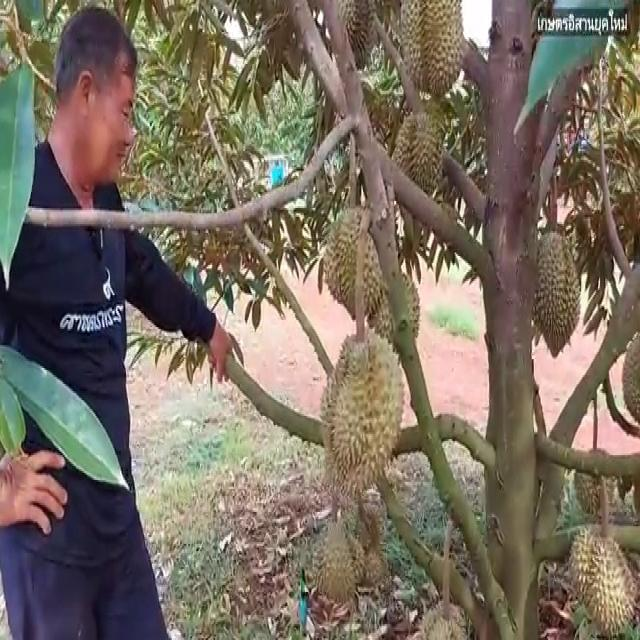durian: (316, 318, 408, 502), (522, 224, 587, 361), (318, 198, 390, 318), (566, 519, 638, 638), (392, 0, 472, 96), (386, 108, 448, 218), (360, 264, 422, 361), (306, 515, 368, 609), (349, 504, 395, 589), (331, 0, 381, 75), (408, 591, 473, 638)
